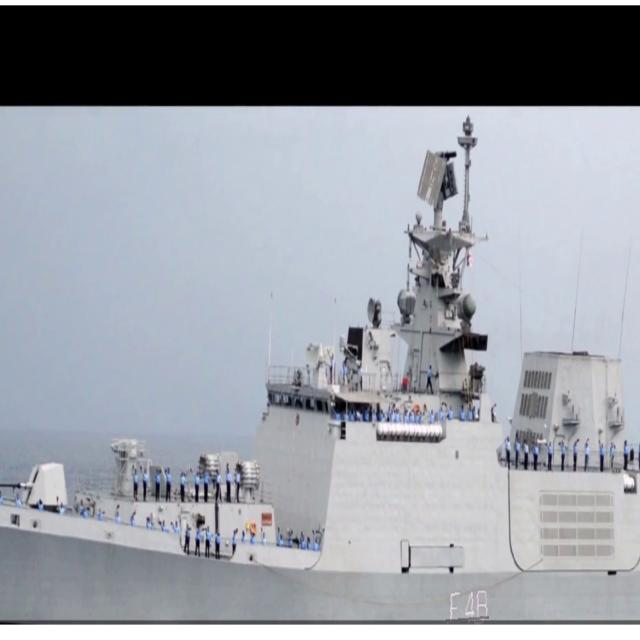OCR: (437, 586, 489, 623)
